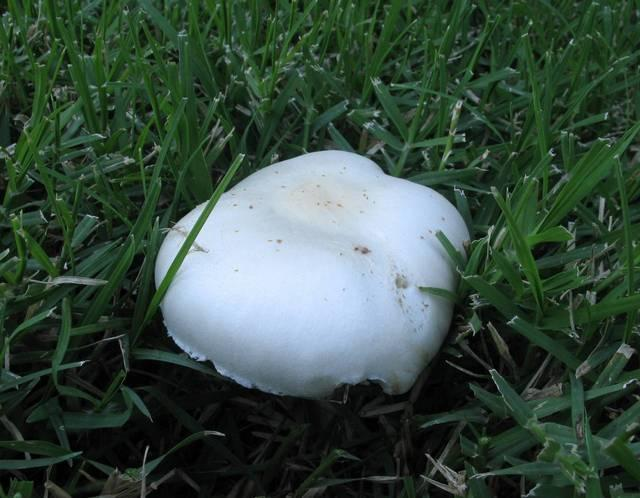Non-edible Mushroom: (152, 147, 472, 400)
